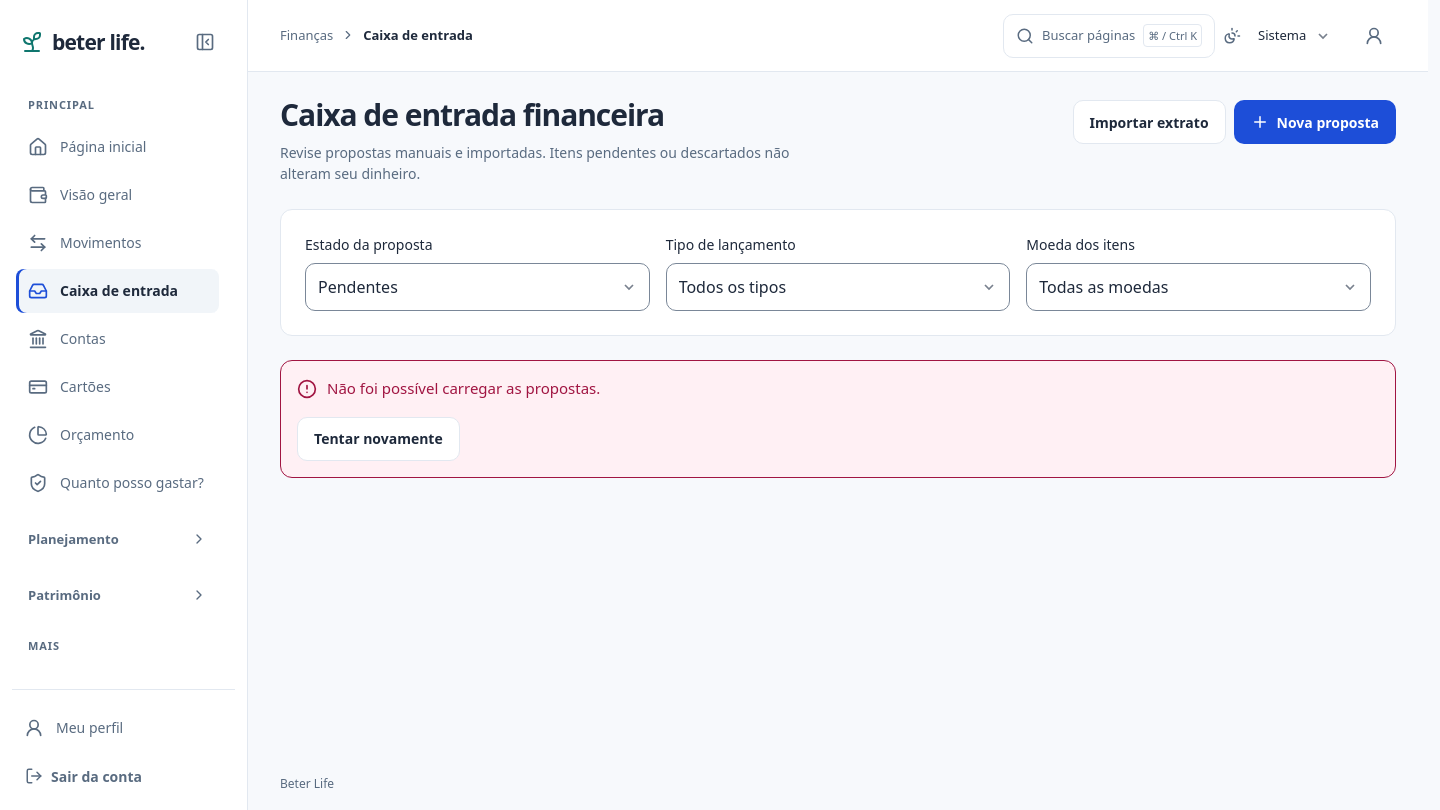
Inbox protected UI with generated transport contracts › supports empty/error/retry and does not fetch private data while signed out
Click the button "Tentar novamente": click(378, 439) x1=297 y1=417 x2=460 y2=461
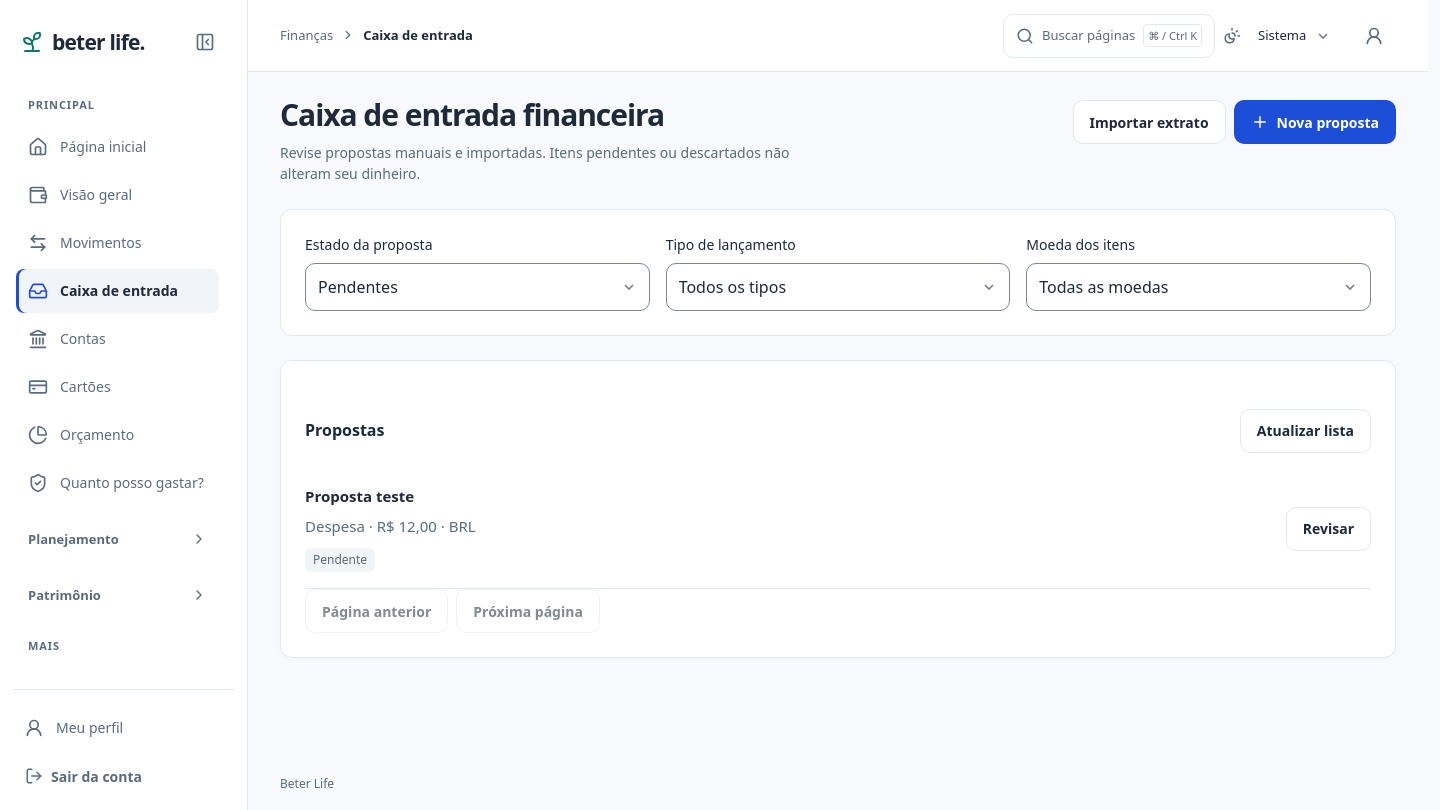
Now the heading "Proposta teste" is shown, box x1=305 y1=486 x2=414 y2=506
